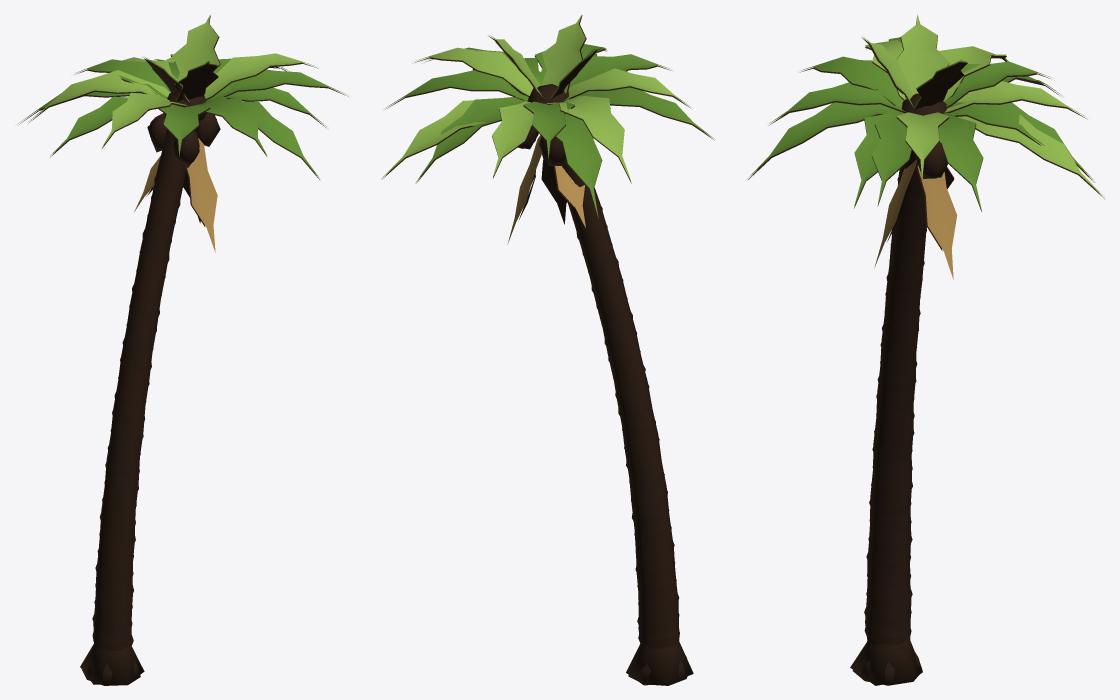
File: palm_b.glb
3 renders of one model, left to right at view 1: azimuth 30°, elevation 25°; view 2: azimuth 150°, elevation 25°; view 3: azimuth 270°, elevation 25°, orthographic. The views are drawn at different scales.
Visible parts, largest first — view 1: palm_b, palm_b_LOD1_outline, palm_b_outline; view 2: palm_b, palm_b_LOD1_outline, palm_b_outline; view 3: palm_b, palm_b_LOD1_outline, palm_b_outline.
Part boxes in pixels (left/top/right/bottom): palm_b: left=18, top=15, right=348, bottom=252; palm_b_LOD1_outline: left=80, top=37, right=279, bottom=684; palm_b_outline: left=19, top=15, right=348, bottom=685; palm_b: left=381, top=14, right=715, bottom=243; palm_b_LOD1_outline: left=473, top=25, right=693, bottom=685; palm_b_outline: left=382, top=15, right=714, bottom=685; palm_b: left=745, top=14, right=1104, bottom=279; palm_b_LOD1_outline: left=850, top=36, right=1045, bottom=685; palm_b_outline: left=748, top=19, right=1104, bottom=685.
Size of what is drawn, in the model's own units: 5.23 by 10.28 by 4.9.
